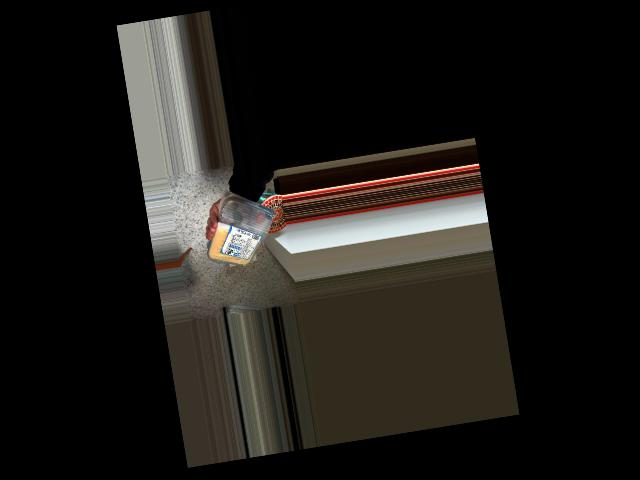cheese: (209, 194, 280, 272)
